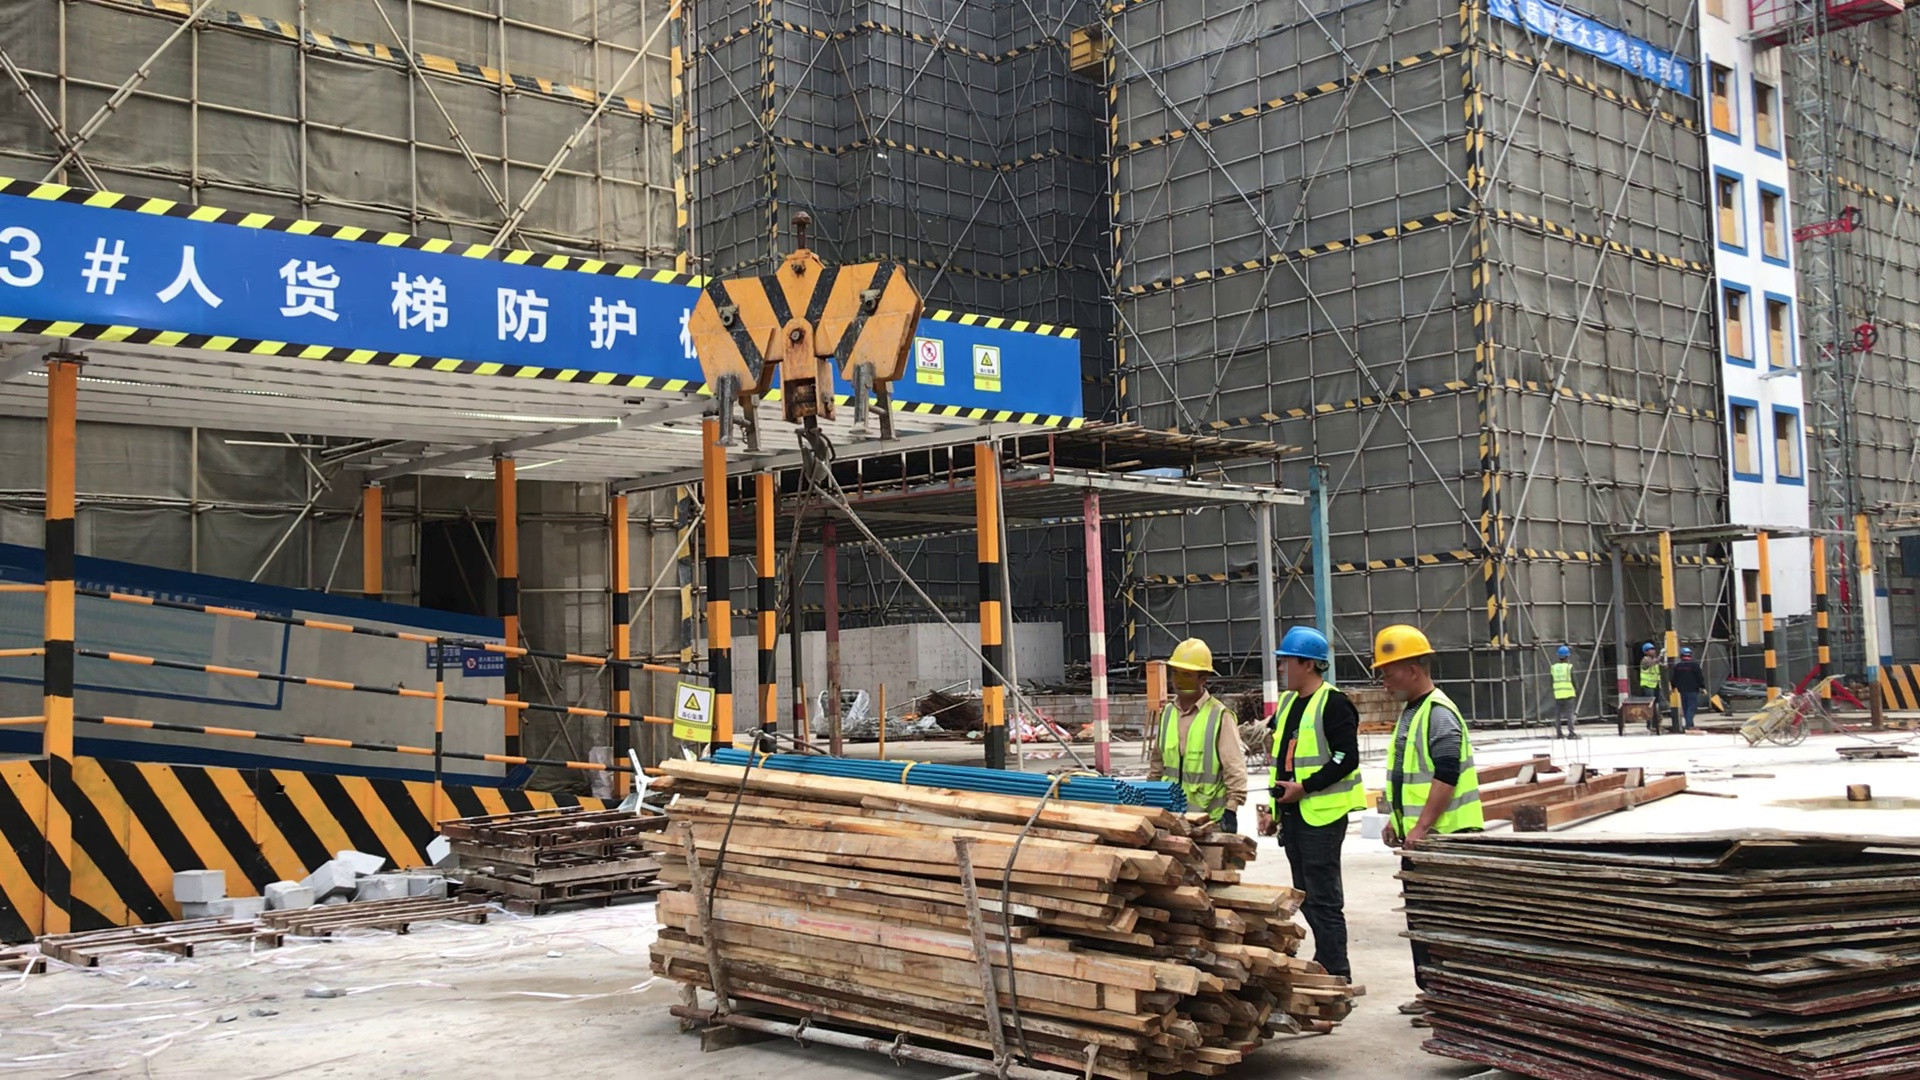board: (1396, 830, 1920, 1077)
handcart: (1732, 675, 1840, 749)
helmet: (1368, 626, 1435, 661), (1273, 623, 1327, 661), (1165, 636, 1217, 672), (1556, 646, 1571, 657), (1677, 647, 1692, 656), (1642, 644, 1653, 652)
hook: (681, 240, 929, 441)
person: (1264, 622, 1364, 1000), (1367, 619, 1485, 841), (1145, 632, 1252, 820), (1549, 641, 1581, 739), (1671, 647, 1703, 728), (1638, 643, 1664, 698)
slogan: (1481, 1, 1690, 102)
vest: (1377, 696, 1478, 841), (1274, 685, 1366, 837), (1155, 694, 1235, 821), (1550, 662, 1579, 700), (1639, 657, 1662, 693)
wood: (623, 724, 1351, 1080)
